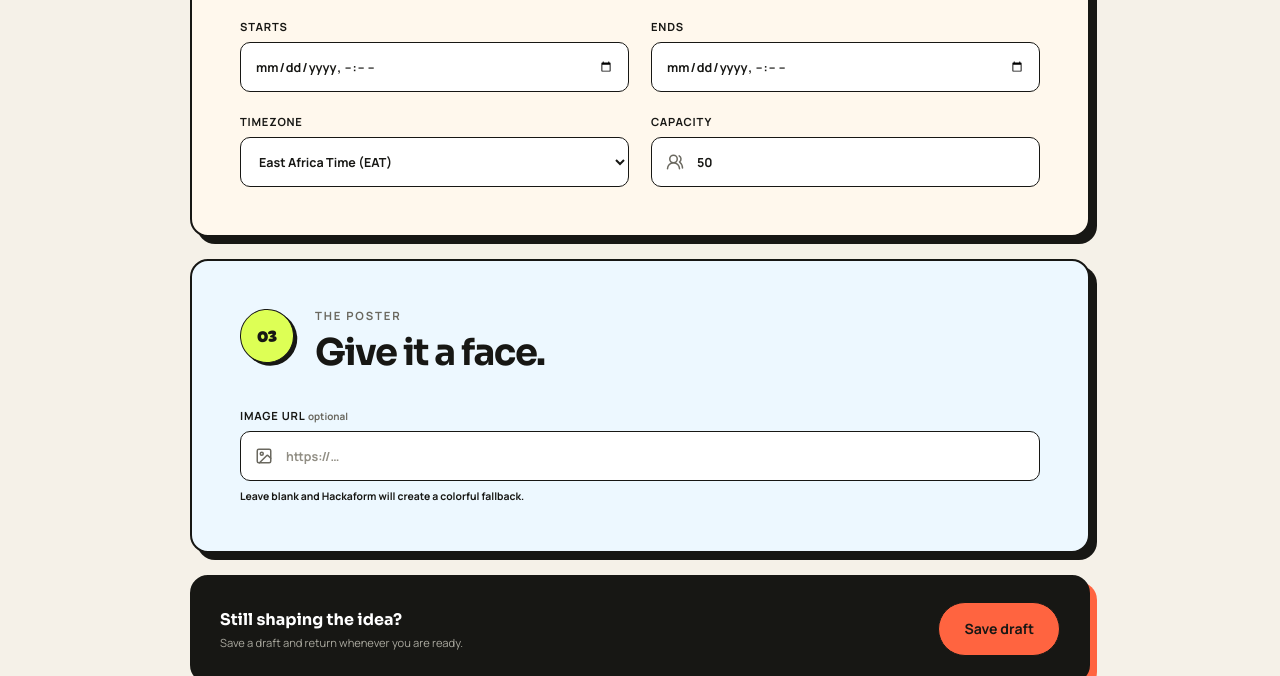
Test: EventForm › shows useful client-side errors before sending an incomplete event
(page scrolled)
Click the button "Save draft": (999, 629) 938,602 -> 1060,656
(page scrolled)
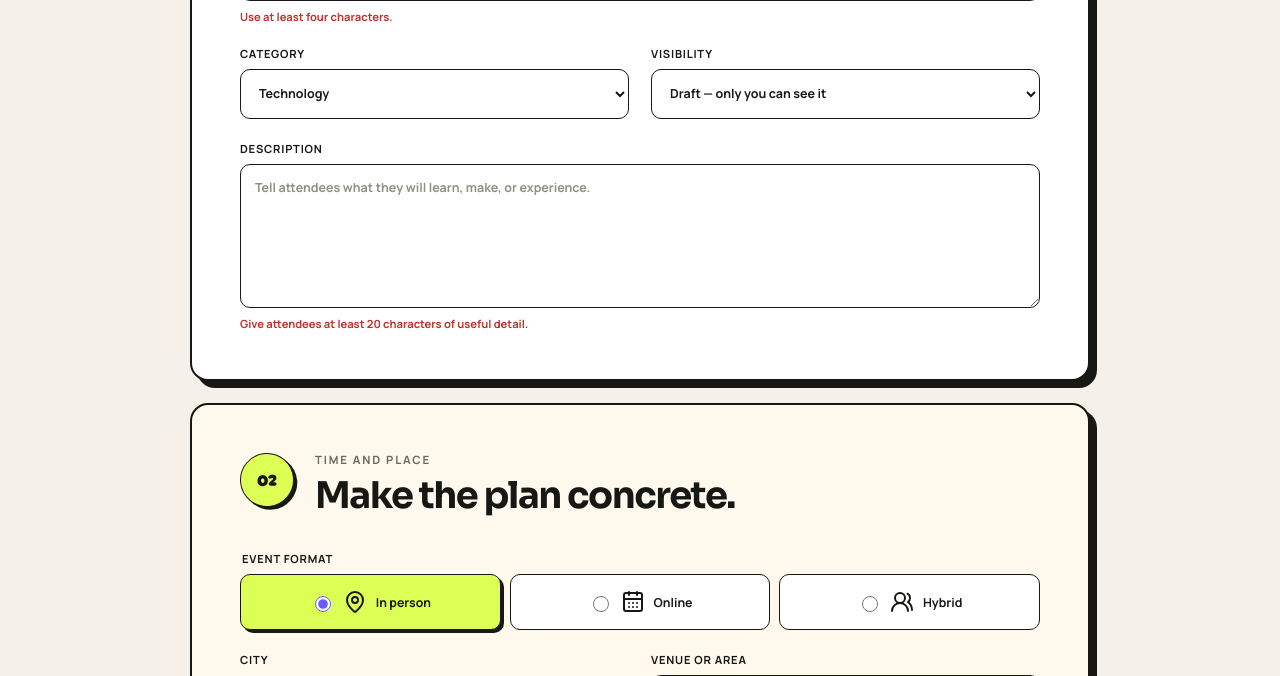
Now the text "Use at least four characters." is shown, box 240,9 -> 393,24
Now the text "Give attendees at least 20 characters of useful detail." is shown, box 240,316 -> 528,331
